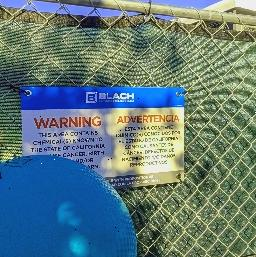algae: (0, 153, 137, 257)
